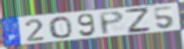2: (25, 18, 46, 43)
5: (153, 5, 175, 30)
9: (77, 13, 97, 37)
O: (48, 15, 74, 39)
P: (98, 10, 126, 36)
Z: (124, 7, 153, 34)
